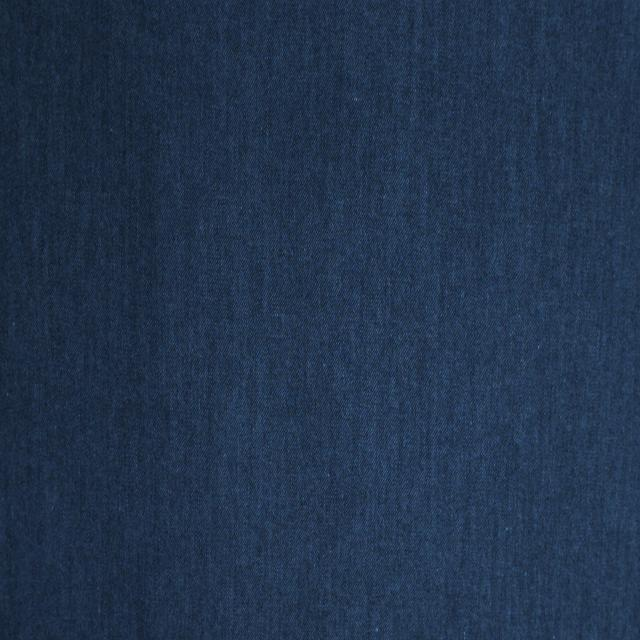defect: (6, 0, 169, 640)
